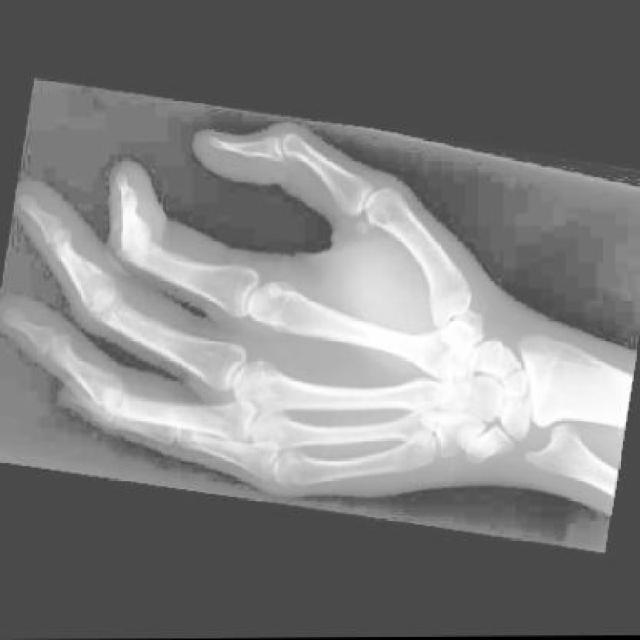Fracture: (491, 363, 530, 396)
